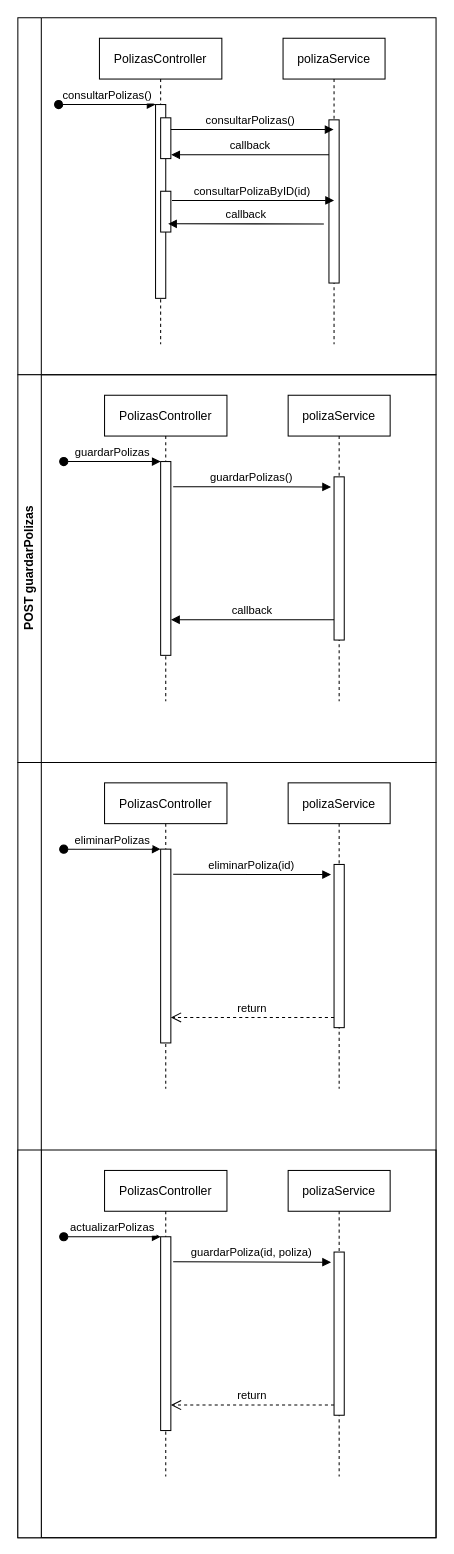
The diagram is 454 pixels wide and 1554 high, and some of its shapes have lost their labels. The box of each missing label's shape, as (x1, y1, x2, y2) in pixels:
DELETE eliminarPolizas: (17, 761, 436, 1538)
GET consultarPolizas: (17, 17, 436, 375)
PUT actualizarPolizas: (17, 1149, 436, 1538)
